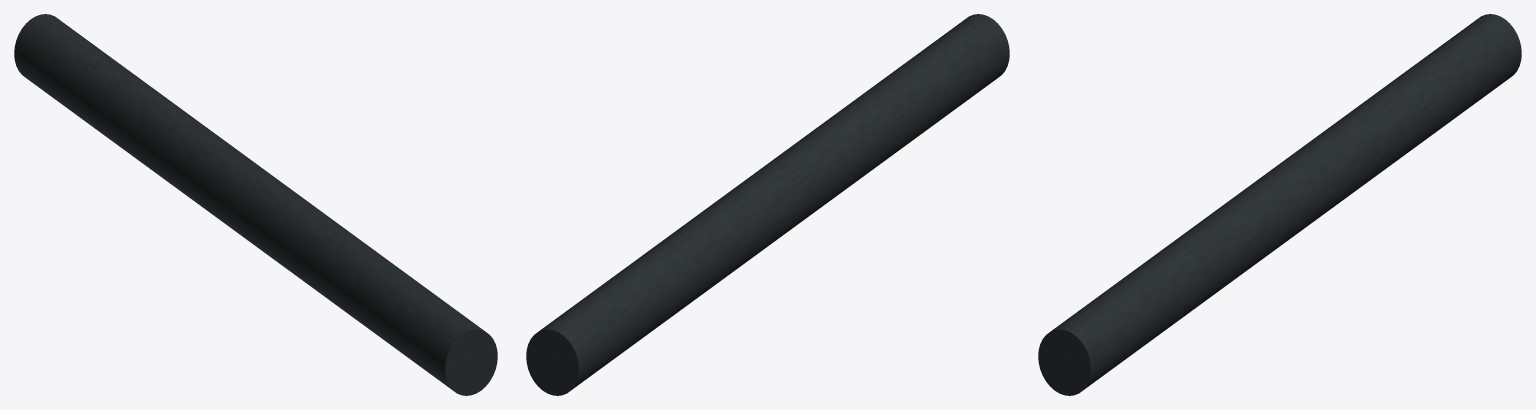
The model's file is pen.glb.
3 views of the same model, side by side, from view 1: azimuth 30°, elevation 25°; view 2: azimuth 150°, elevation 25°; view 3: azimuth 330°, elevation 25° (orthographic).
Parts seen in each view (by area): view 1: pen; view 2: pen; view 3: pen.
Part boxes in pixels (left/top/right/bottom): pen: left=14, top=14, right=497, bottom=395; pen: left=526, top=14, right=1009, bottom=395; pen: left=1038, top=14, right=1521, bottom=395.
Bounding box in the file's own units: 0.00988 × 0.0117 × 0.14.
Materials: 1 (1 with a texture image).
